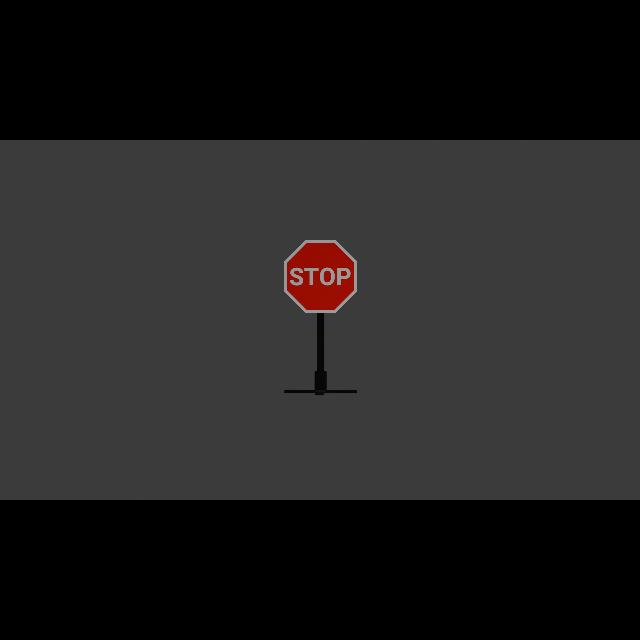sign_stop: (284, 240, 358, 315)
